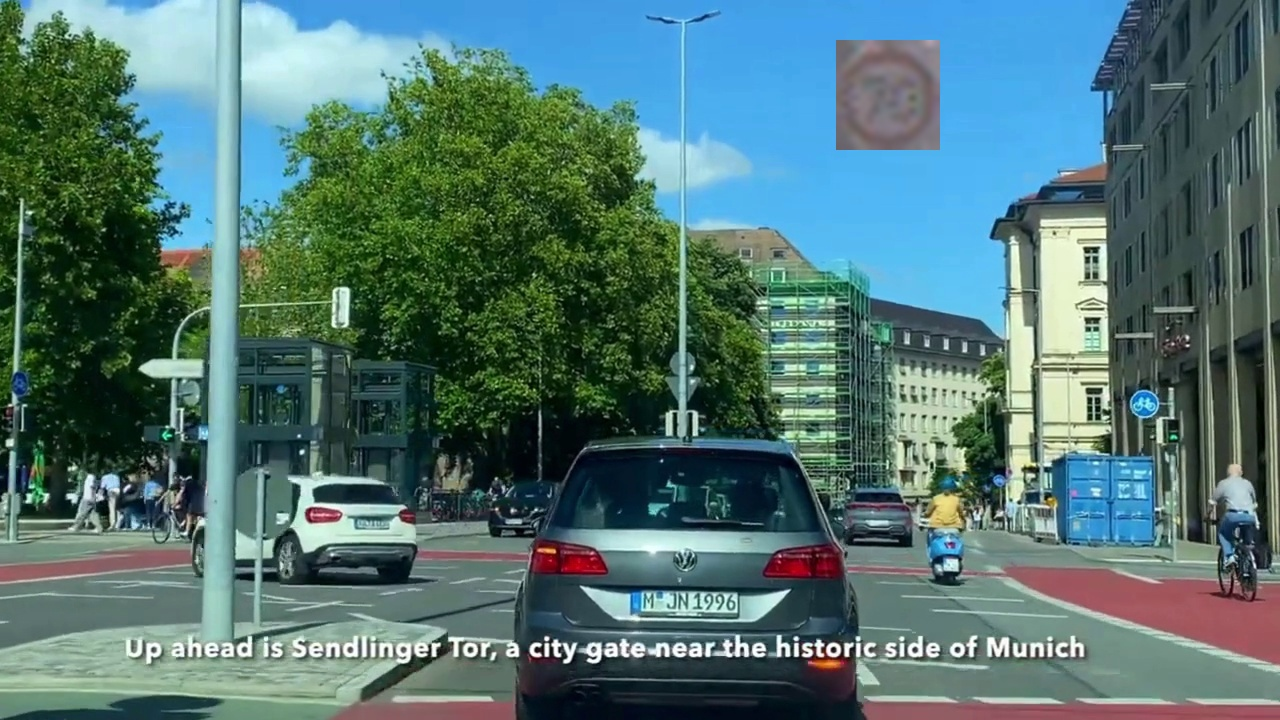Speed 70: (836, 40, 940, 150)
